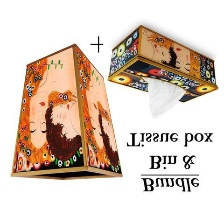tissue: (136, 72, 193, 124)
